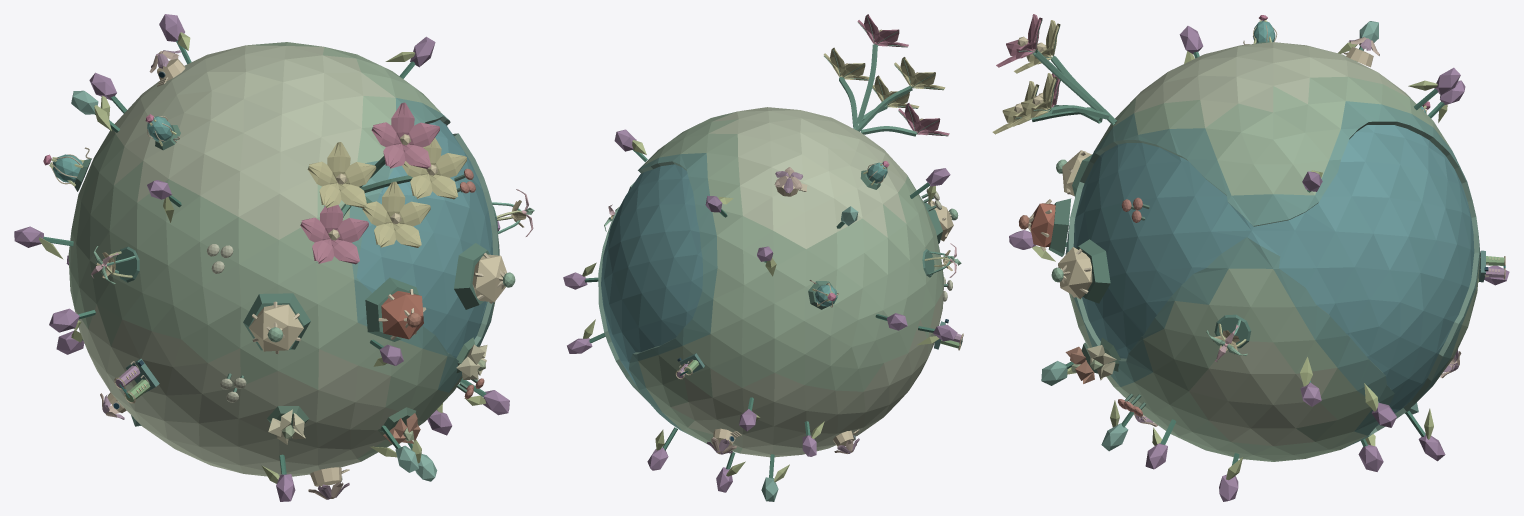
File: earth-mobile.glb
3 views of the same model, side by side, from view 1: azimuth 30°, elevation 25°; view 2: azimuth 150°, elevation 25°; view 3: azimuth 270°, elevation 25° (orthographic). The views are drawn at different scales.
Parts seen in each view (by area): view 1: Terrain • modeled surfaces, Structures • modeled surfaces; view 2: Terrain • modeled surfaces, Structures • modeled surfaces; view 3: Terrain • modeled surfaces, Structures • modeled surfaces.
Boxes of the visible parts, x1,y1,x2,y2 form: Terrain • modeled surfaces: (68,42,499,476); Structures • modeled surfaces: (14,14,534,501); Terrain • modeled surfaces: (598,107,944,457); Structures • modeled surfaces: (563,14,963,501); Terrain • modeled surfaces: (1065,42,1480,461); Structures • modeled surfaces: (992,14,1509,501).
Bounding box in the file's own units: 2.54 × 2.42 × 2.53.
